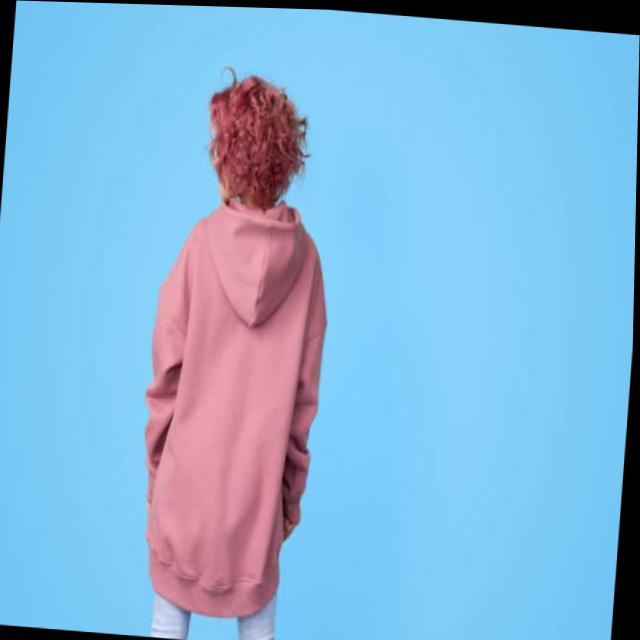no helmet: (188, 47, 328, 254)
